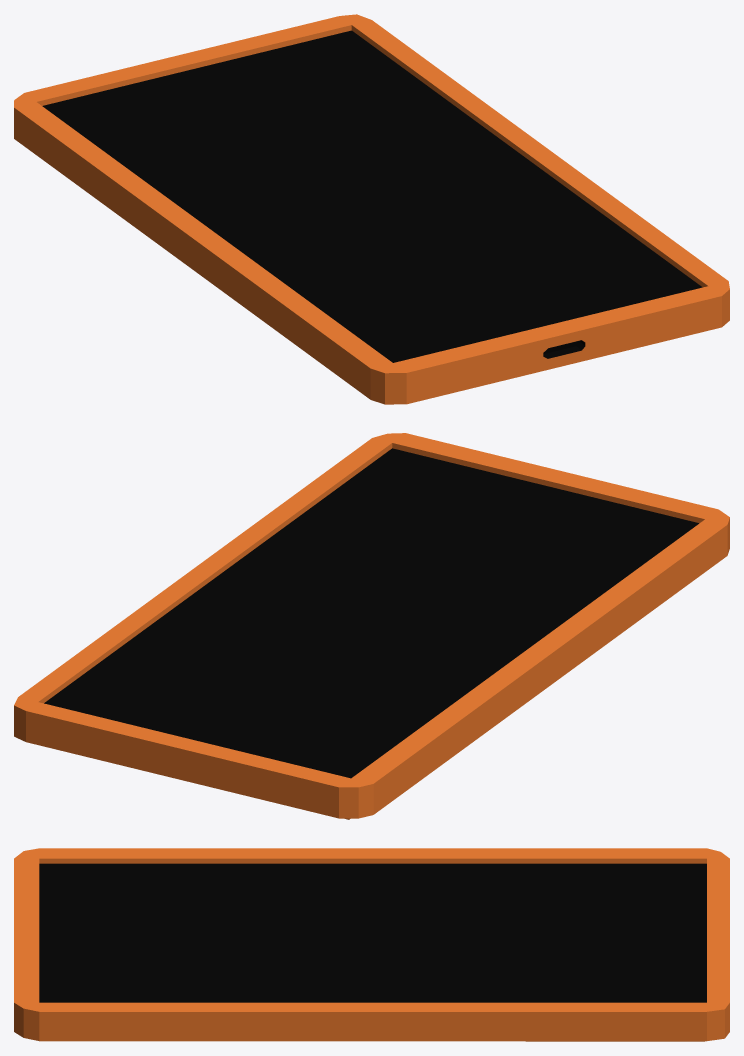
The model's file is Iphone.glb.
3 views of the same model, one above another, from view 1: azimuth 30°, elevation 25°; view 2: azimuth 150°, elevation 25°; view 3: azimuth 270°, elevation 25° (orthographic). The views are drawn at different scales.
Visible parts, largest first — view 1: IP; view 2: IP; view 3: IP.
Part boxes in pixels (box(x1,y1,x2,y2)): IP: box(14, 14, 729, 404); IP: box(14, 433, 729, 819); IP: box(14, 848, 729, 1041).
Bounding box in the file's own units: 0.2967 × 0.0372 × 0.549.
